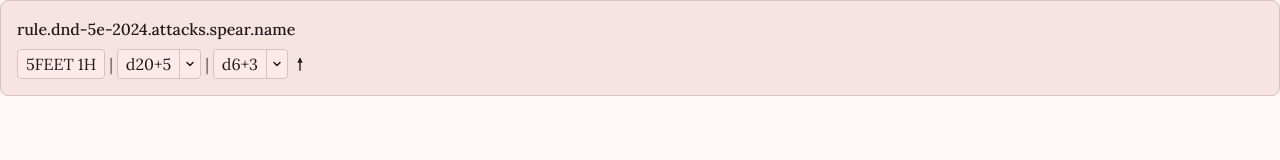
Test case: PanelRenderer - versatile weapon (spear) › cycles to "60FEET" with disadvantage indicator for long thrown range
Click the button "5FEET 1H" at (61, 64), box [17,49,105,79]
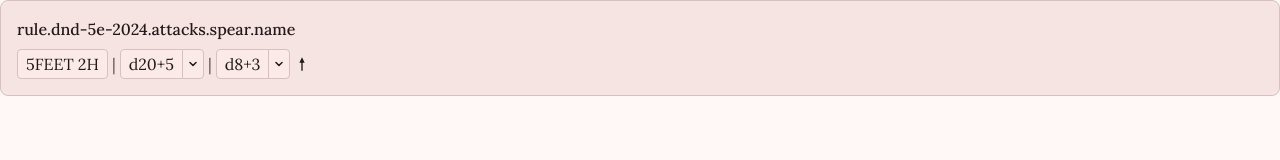
Click the button "5FEET 2H" at (62, 64), box [17,49,108,79]
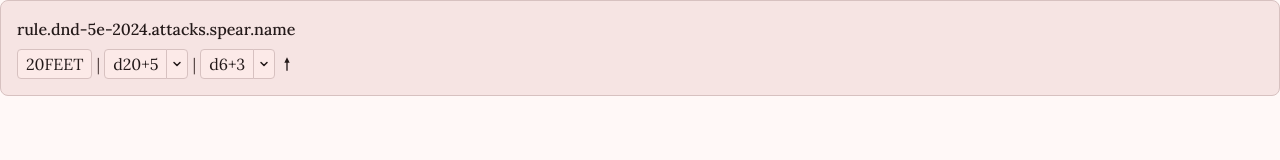
Click the button "20FEET" at (55, 64), box [17,49,92,79]
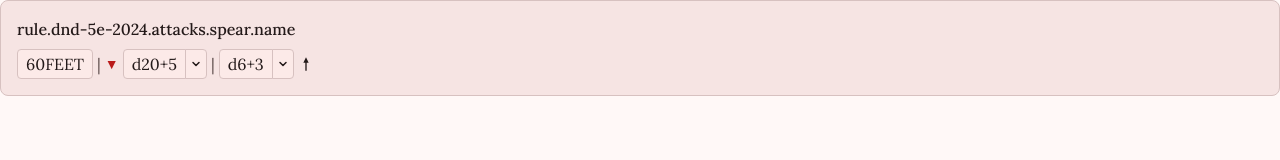
Now the text "60FEET" is shown, box [17,49,93,79]
Now the text "▼" is shown, box [105,54,119,74]
